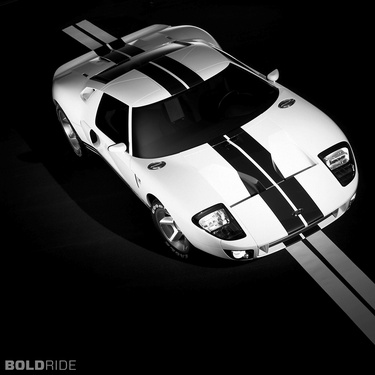car: (47, 14, 363, 269)
